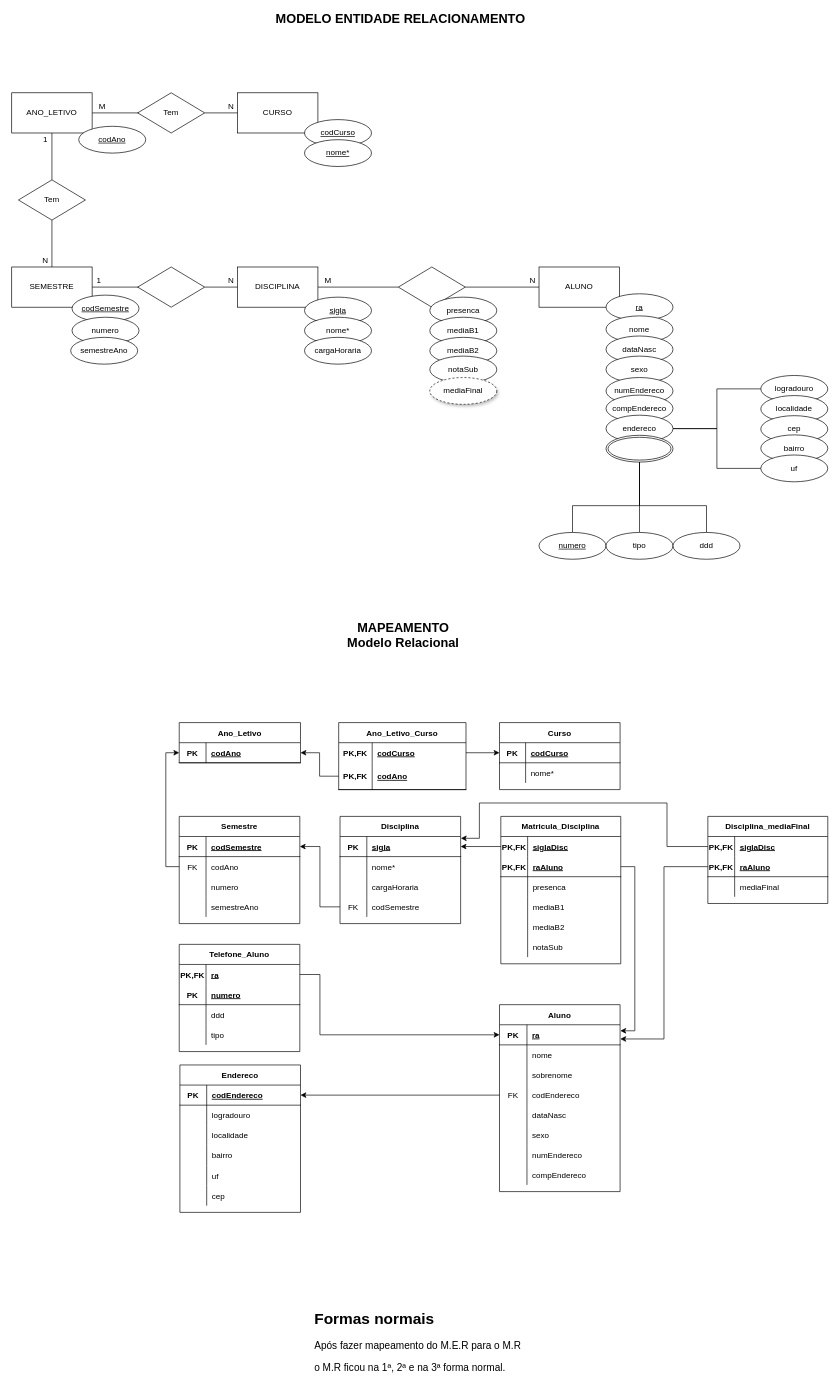
This 840x1398 diagram has some shape labels left out. Here are the shapes that lost their labels. From the top down, the centre of each, then its label:
At (x=171, y=286): "Disponibiliza".
At (x=431, y=286): "Matricula".
At (x=639, y=448): "telefone".
